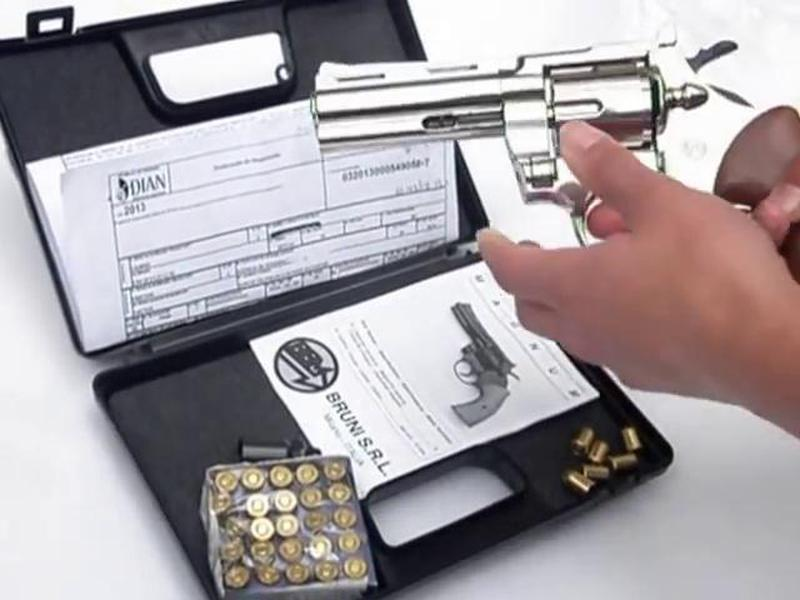Revolver: (325, 14, 799, 308)
